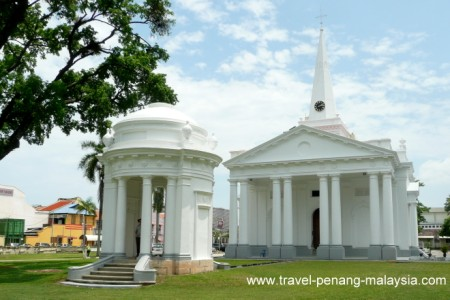Church: (100, 11, 423, 266)
